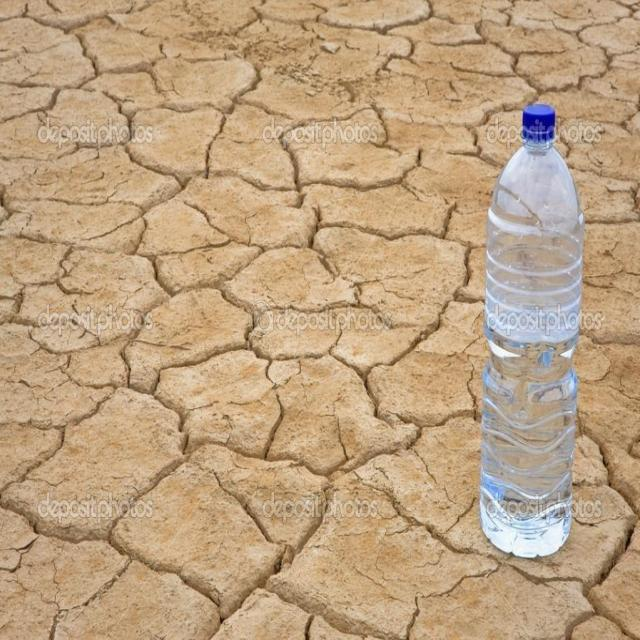plastic bottle: (479, 100, 584, 563)
